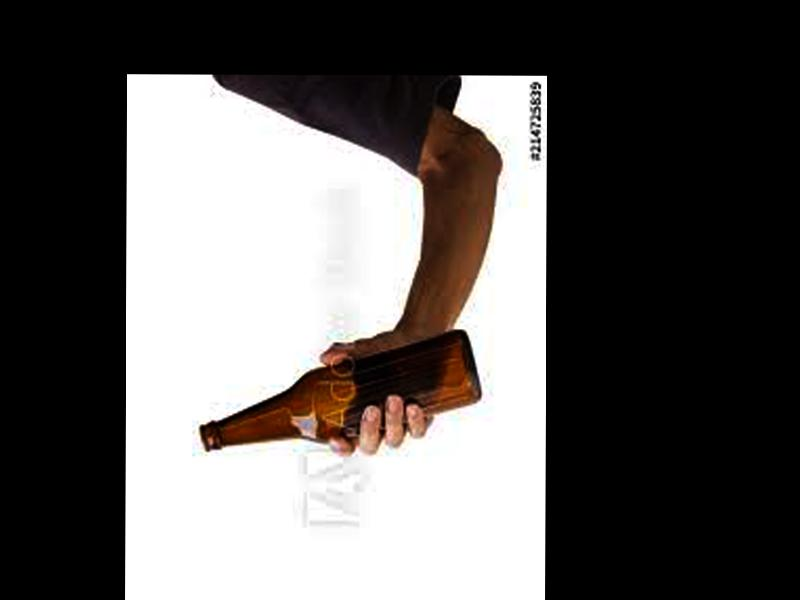Beer: (199, 328, 481, 454)
